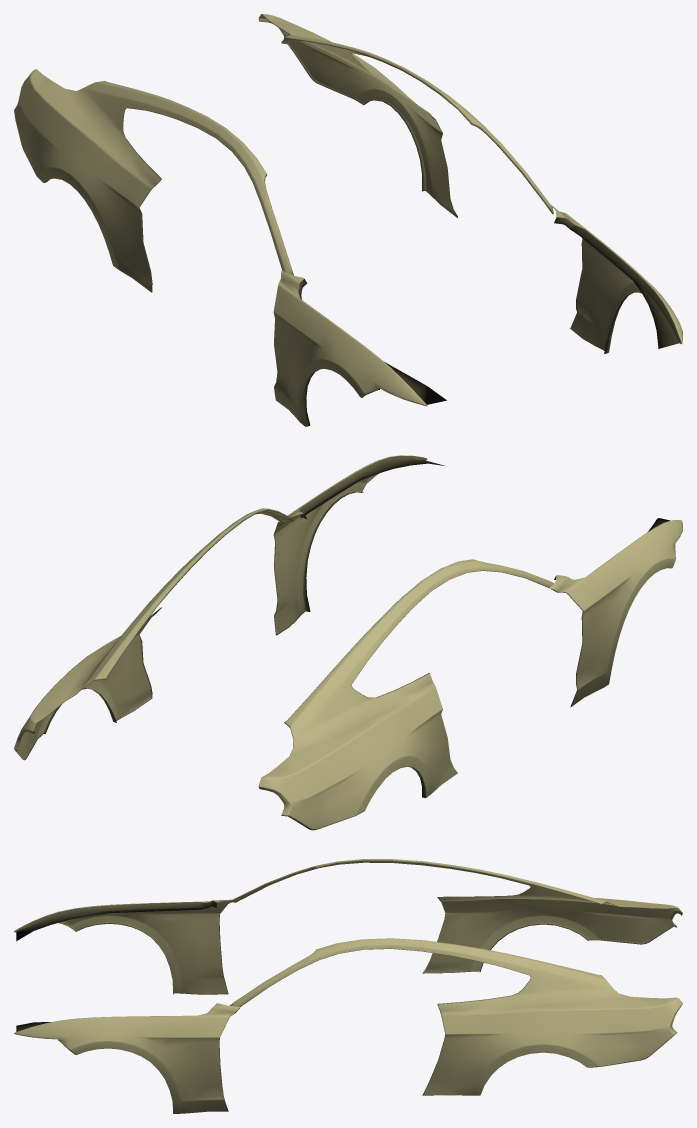
File: Mustang16_Fender_01_Duco.fbx
The picture shows the model from 3 angles, top to bottom: view 1: azimuth 30°, elevation 25°; view 2: azimuth 150°, elevation 25°; view 3: azimuth 270°, elevation 25°; orthographic projection. The views are drawn at different scales.
Parts seen in each view (by area): view 1: Mustang16_Fender_01_Duco; view 2: Mustang16_Fender_01_Duco; view 3: Mustang16_Fender_01_Duco.
Part boxes in pixels (<box>): Mustang16_Fender_01_Duco: <box>14,14,682,426</box>; Mustang16_Fender_01_Duco: <box>14,455,682,830</box>; Mustang16_Fender_01_Duco: <box>14,859,682,1113</box>.
Bounding box in the file's own units: 191 × 107 × 418.
